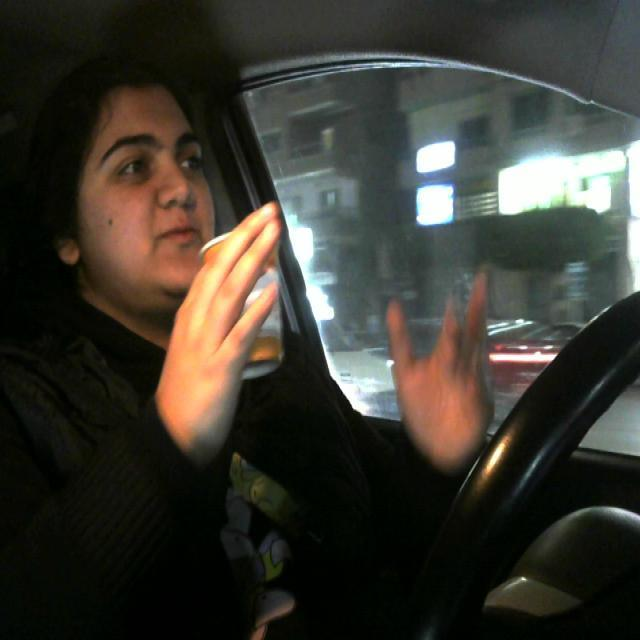Seatbelt: (193, 215, 291, 384)
